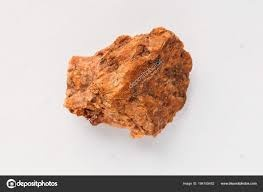obstacle: (64, 27, 191, 137)
